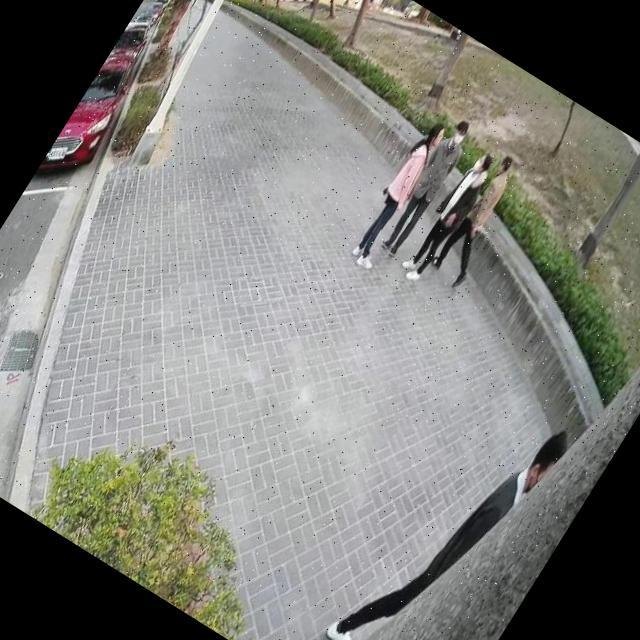person: (315, 371, 580, 640), (340, 110, 460, 274), (422, 145, 538, 296), (394, 141, 506, 292), (375, 110, 482, 260)
